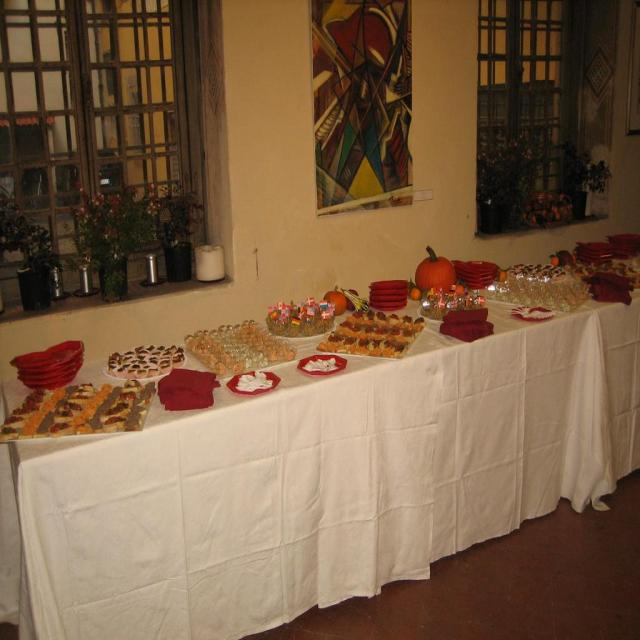table: (32, 280, 618, 630)
